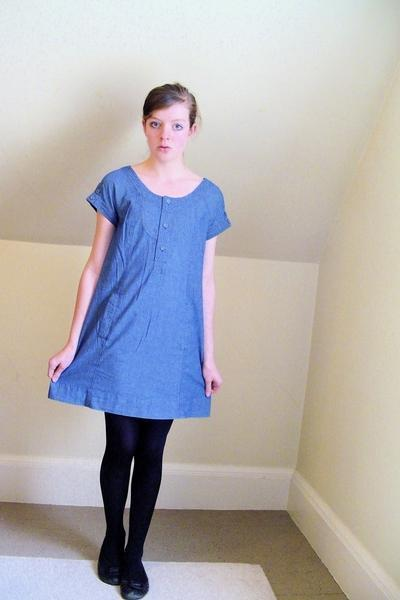dress: (48, 166, 227, 419)
shoe: (97, 555, 148, 599)
